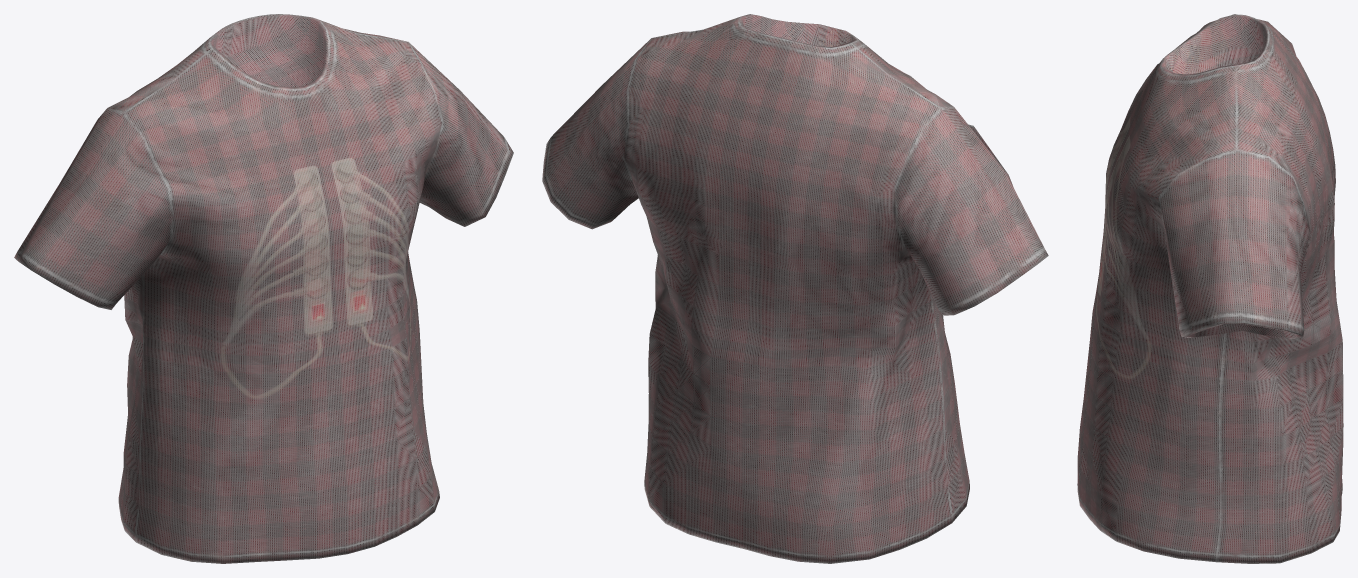
3 views of the same model, side by side, from view 1: azimuth 30°, elevation 25°; view 2: azimuth 150°, elevation 25°; view 3: azimuth 270°, elevation 25° (orthographic). The views are drawn at different scales.
Parts seen in each view (by area): view 1: hash_439FD9BF.model; view 2: hash_439FD9BF.model; view 3: hash_439FD9BF.model.
Part boxes in pixels (x1,y1,x2,y2): hash_439FD9BF.model: [14, 14, 513, 563]; hash_439FD9BF.model: [542, 14, 1048, 563]; hash_439FD9BF.model: [1077, 14, 1343, 563].
Bounding box in the file's own units: 0.7002 × 0.6603 × 0.3379.
